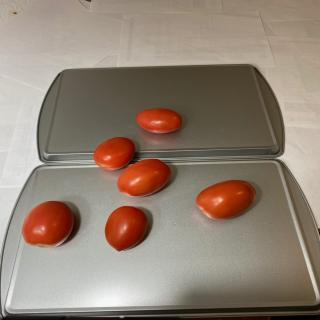Tomato: (22, 200, 74, 248), (196, 180, 256, 220), (117, 158, 171, 198), (105, 206, 148, 252), (93, 137, 135, 170), (136, 108, 182, 134)
